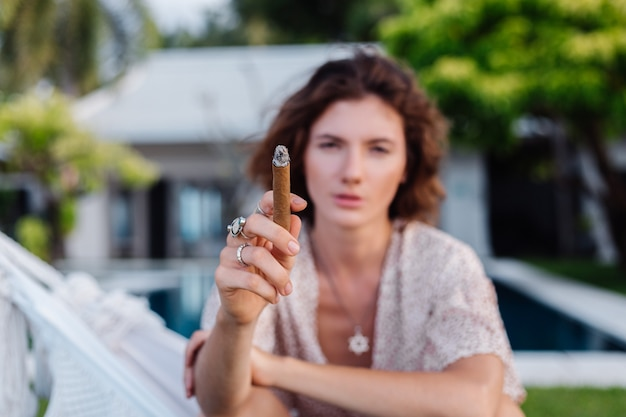cigarette: (271, 145, 294, 271)
